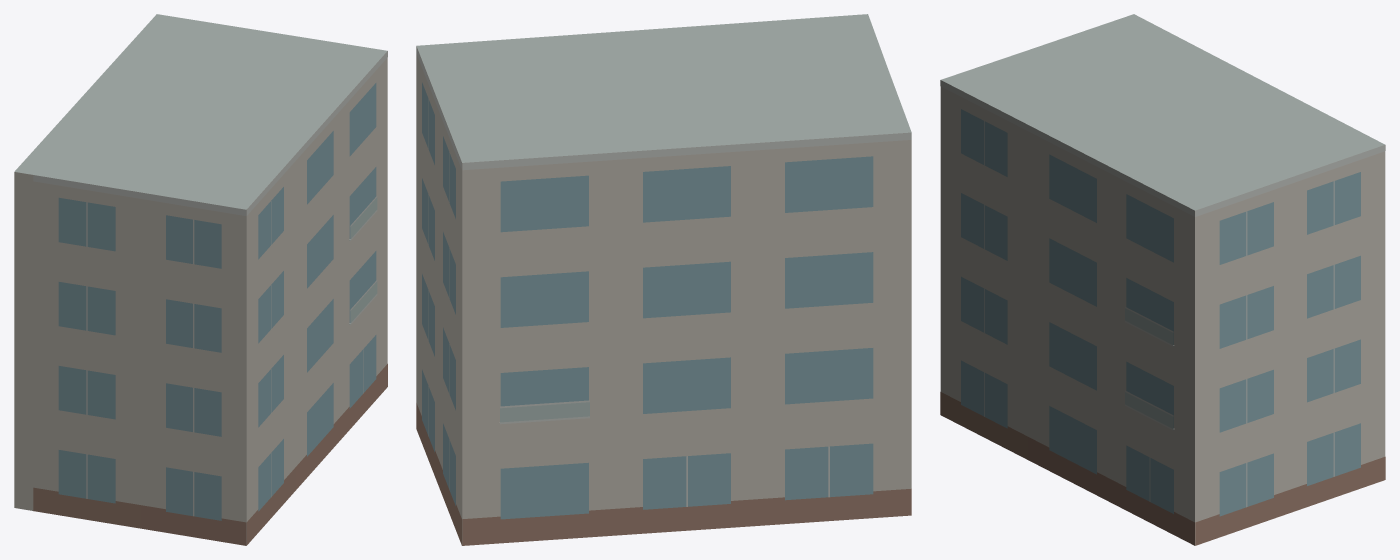
File: survey-upis-32942637.glb
3 views of the same model, side by side, from view 1: azimuth 30°, elevation 25°; view 2: azimuth 150°, elevation 25°; view 3: azimuth 270°, elevation 25° (orthographic). The views are drawn at different scales.
Parts seen in each view (by area): view 1: survey-upis-32942637.tmp; view 2: survey-upis-32942637.tmp; view 3: survey-upis-32942637.tmp.
Boxes of the visible parts, box(x1,y1,x2,y2) form: survey-upis-32942637.tmp: box(14, 14, 387, 545); survey-upis-32942637.tmp: box(416, 14, 911, 545); survey-upis-32942637.tmp: box(940, 14, 1385, 545).
Size of the model in its own units: 15.99 by 12.7 by 15.28.
